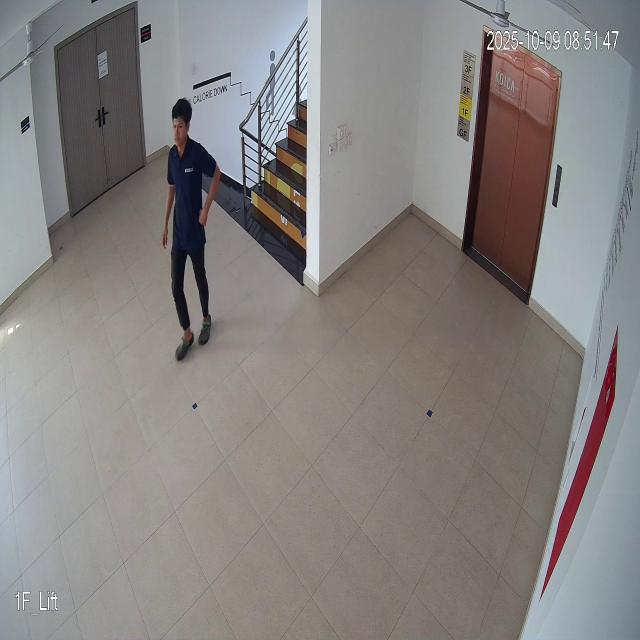face: (170, 95, 190, 157)
